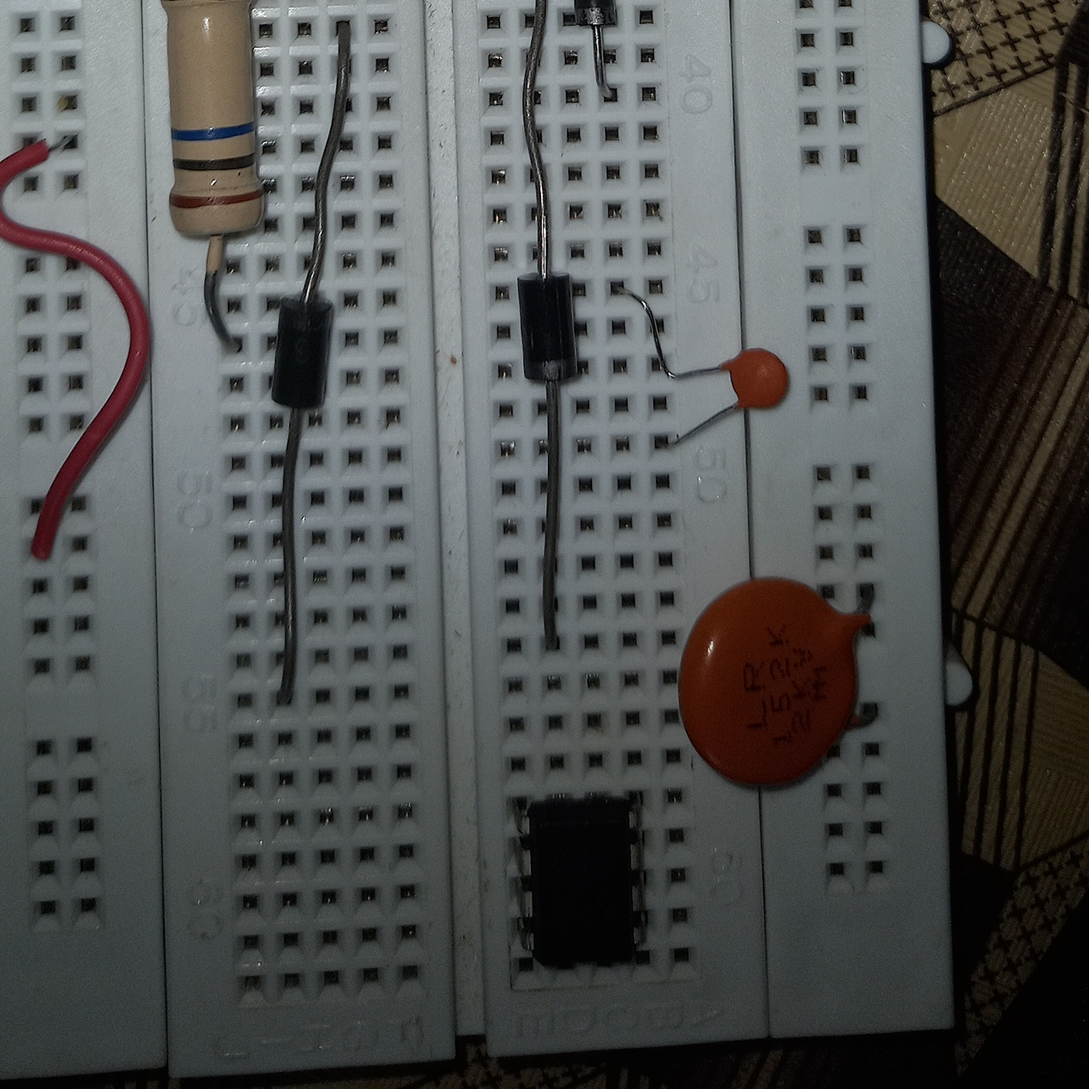capacitor: (671, 577, 873, 789), (728, 346, 798, 415)
resistor: (157, 0, 272, 238)
